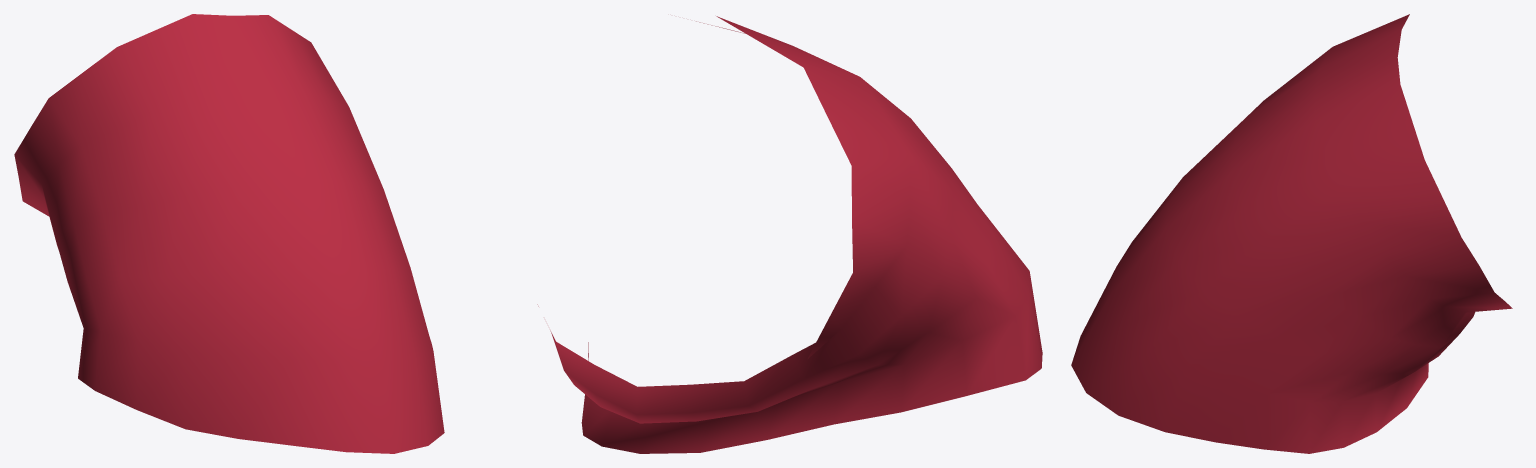
The model's file is pulmonary-trunk.glb.
The picture shows the model from 3 angles, left to right: view 1: azimuth 30°, elevation 25°; view 2: azimuth 150°, elevation 25°; view 3: azimuth 270°, elevation 25°; orthographic projection. The views are drawn at different scales.
Parts seen in each view (by area): view 1: Pulmonary trunk; view 2: Pulmonary trunk; view 3: Pulmonary trunk.
Boxes of the visible parts, x1,y1,x2,y2 form: Pulmonary trunk: (14,14,444,453); Pulmonary trunk: (537,16,1042,453); Pulmonary trunk: (1071,14,1512,453).
Size of the model in its own units: 0.0312 by 0.0329 by 0.0378.
